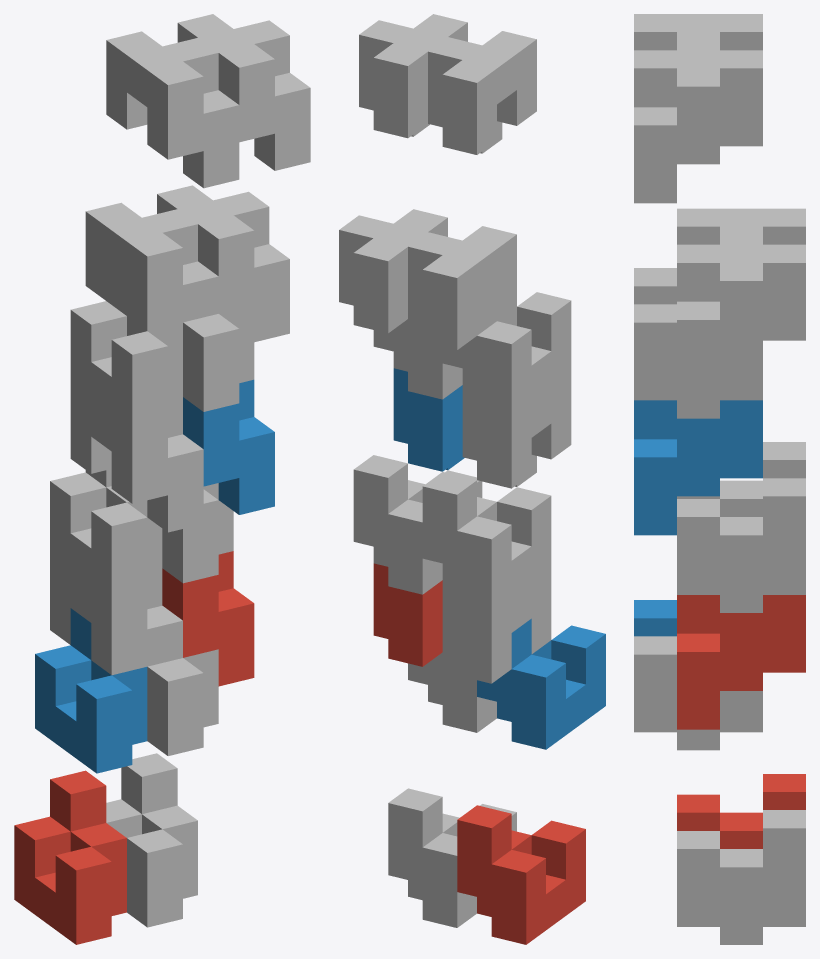
File: tiling.obj
The picture shows the model from 3 angles, left to right: view 1: azimuth 30°, elevation 25°; view 2: azimuth 150°, elevation 25°; view 3: azimuth 270°, elevation 25°; orthographic projection. The views are drawn at different scales.
Parts seen in each view (by area): view 1: copy_2_domain_4, copy_1_domain_1, copy_2_domain_3, copy_1_domain_2, copy_1_domain_4, copy_2_domain_2, copy_2_domain_8, copy_1_domain_5, copy_1_domain_3, copy_2_domain_7, copy_2_domain_1, copy_2_domain_6 (+4 smaller); view 2: copy_1_domain_3, copy_1_domain_1, copy_2_domain_4, copy_1_domain_4, copy_1_domain_2, copy_2_domain_3, copy_1_domain_5, copy_1_domain_7, copy_2_domain_8, copy_2_domain_7, copy_2_domain_2, copy_2_domain_1 (+4 smaller); view 3: copy_2_domain_7, copy_2_domain_8, copy_1_domain_5, copy_1_domain_7, copy_2_domain_6, copy_2_domain_5, copy_1_domain_6, copy_1_domain_8, copy_2_domain_3, copy_2_domain_4, copy_1_domain_1, copy_1_domain_3 (+2 smaller).
Part boxes in pixels (box(x1,y1,x2,y2)): copy_2_domain_4: box(106, 31, 239, 188); copy_1_domain_1: box(14, 770, 126, 944); copy_2_domain_3: box(85, 202, 218, 330); copy_1_domain_2: box(35, 608, 147, 773); copy_1_domain_4: box(70, 264, 182, 429); copy_2_domain_2: box(70, 384, 203, 532); copy_2_domain_8: box(177, 14, 310, 170); copy_1_domain_5: box(106, 753, 197, 927); copy_1_domain_3: box(50, 469, 162, 600); copy_2_domain_7: box(157, 185, 289, 342); copy_2_domain_1: box(50, 556, 182, 675); copy_2_domain_6: box(183, 379, 274, 514); copy_1_domain_3: box(422, 472, 551, 611); copy_1_domain_1: box(457, 805, 585, 944); copy_2_domain_4: box(428, 31, 536, 154); copy_1_domain_4: box(442, 285, 571, 416); copy_1_domain_2: box(477, 618, 605, 749); copy_2_domain_3: box(408, 226, 516, 350); copy_1_domain_5: box(388, 788, 516, 927); copy_1_domain_7: box(353, 455, 482, 594); copy_2_domain_8: box(359, 14, 467, 138); copy_2_domain_7: box(339, 209, 447, 333); copy_2_domain_2: box(462, 373, 571, 488); copy_2_domain_1: box(442, 568, 551, 683); copy_2_domain_7: box(677, 244, 805, 397); copy_2_domain_8: box(634, 50, 762, 203); copy_1_domain_5: box(677, 810, 805, 944); copy_1_domain_7: box(677, 478, 805, 612); copy_2_domain_6: box(634, 400, 762, 535); copy_2_domain_5: box(677, 595, 805, 729); copy_1_domain_6: box(634, 636, 762, 750); copy_1_domain_8: box(634, 304, 762, 418); copy_2_domain_3: box(677, 208, 805, 244); copy_2_domain_4: box(634, 14, 762, 50); copy_1_domain_1: box(677, 774, 805, 848); copy_1_domain_3: box(677, 442, 805, 516).
Bounding box in the file's own units: 6 × 23 × 4.
